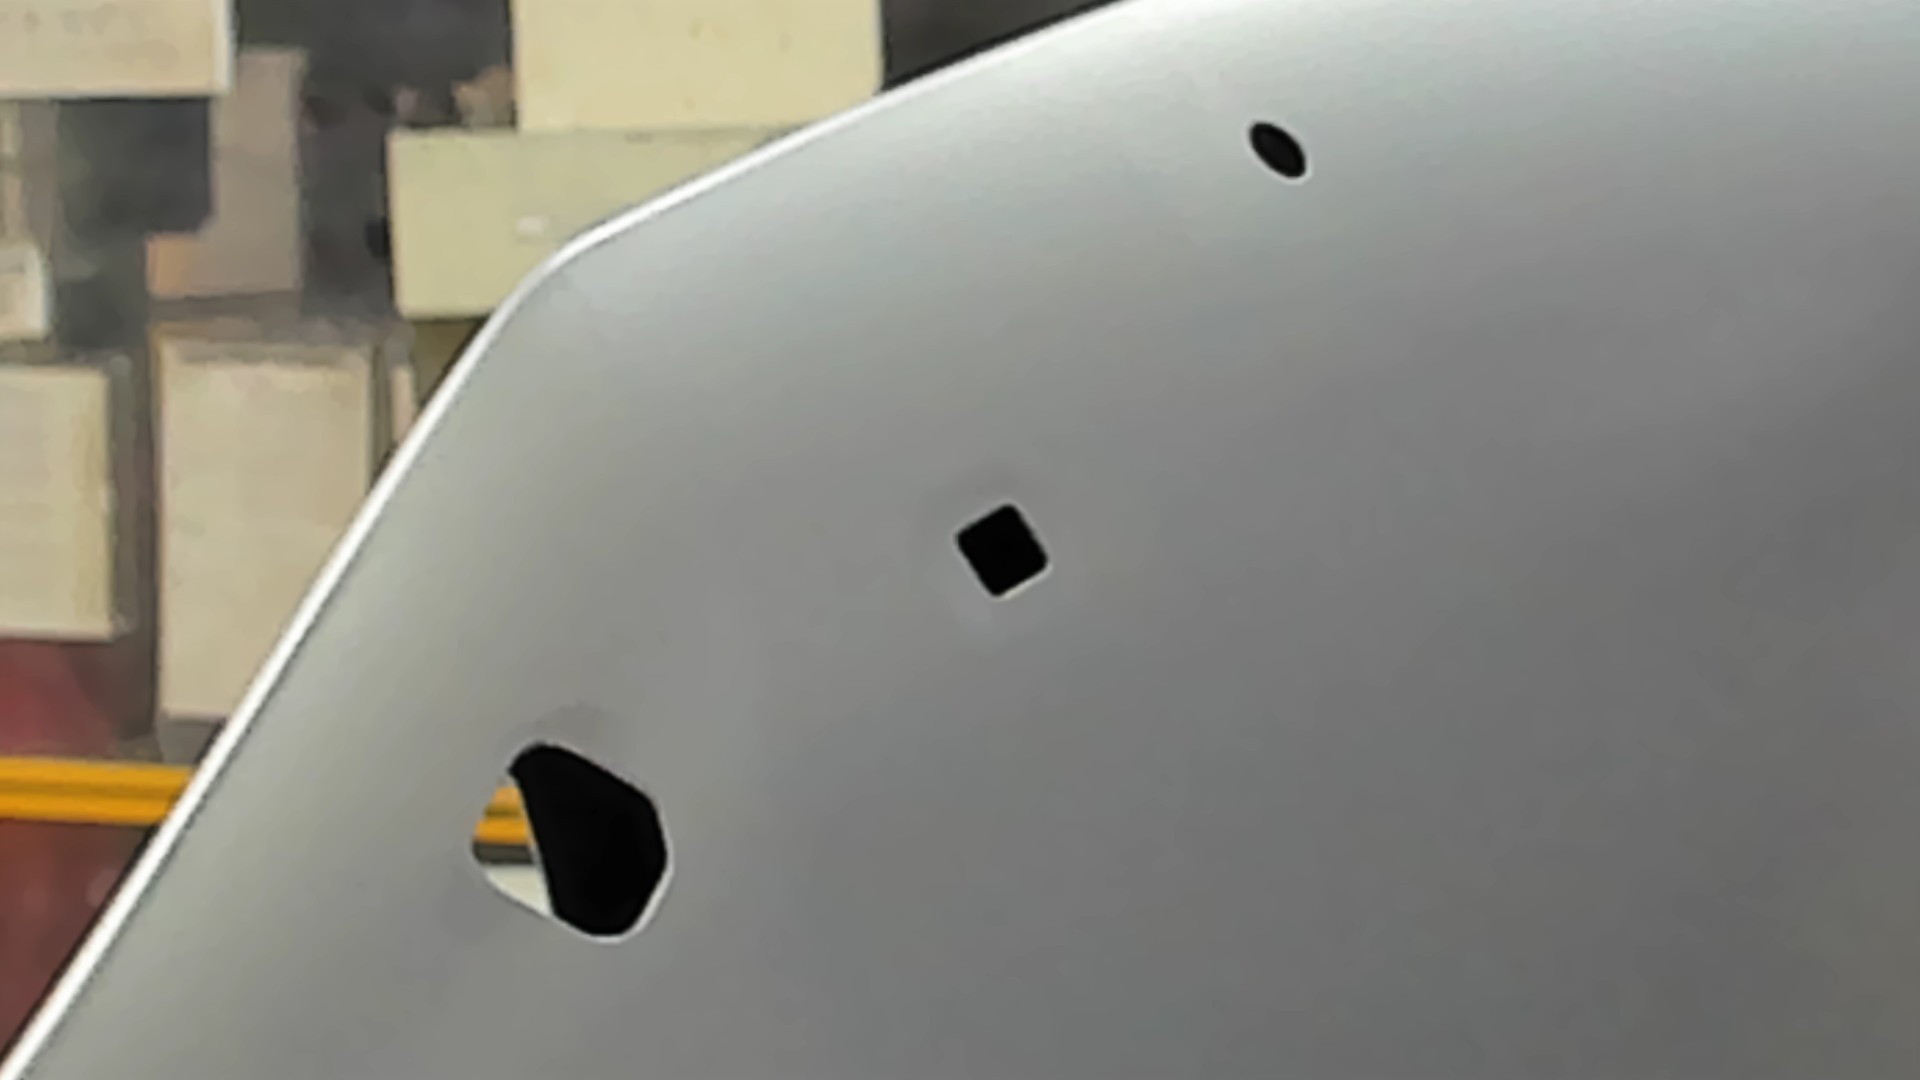chico: (1246, 115, 1313, 183)
grande: (465, 737, 676, 945)
mediano: (951, 498, 1054, 603)
